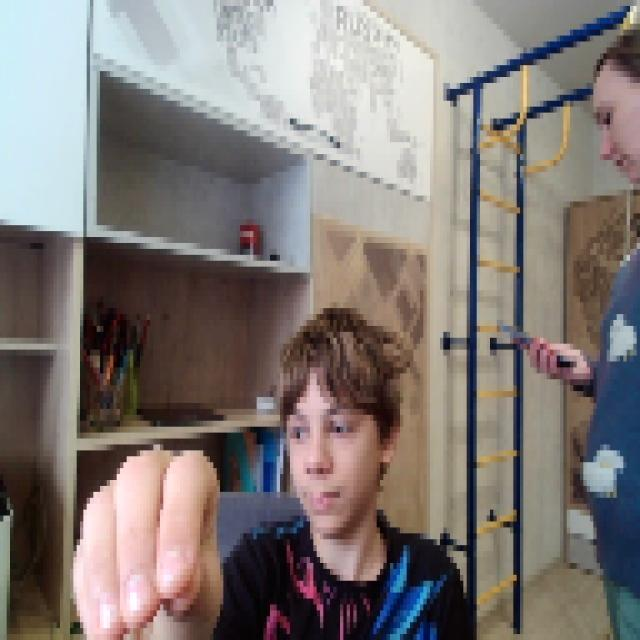left_click: (70, 439, 223, 634)
